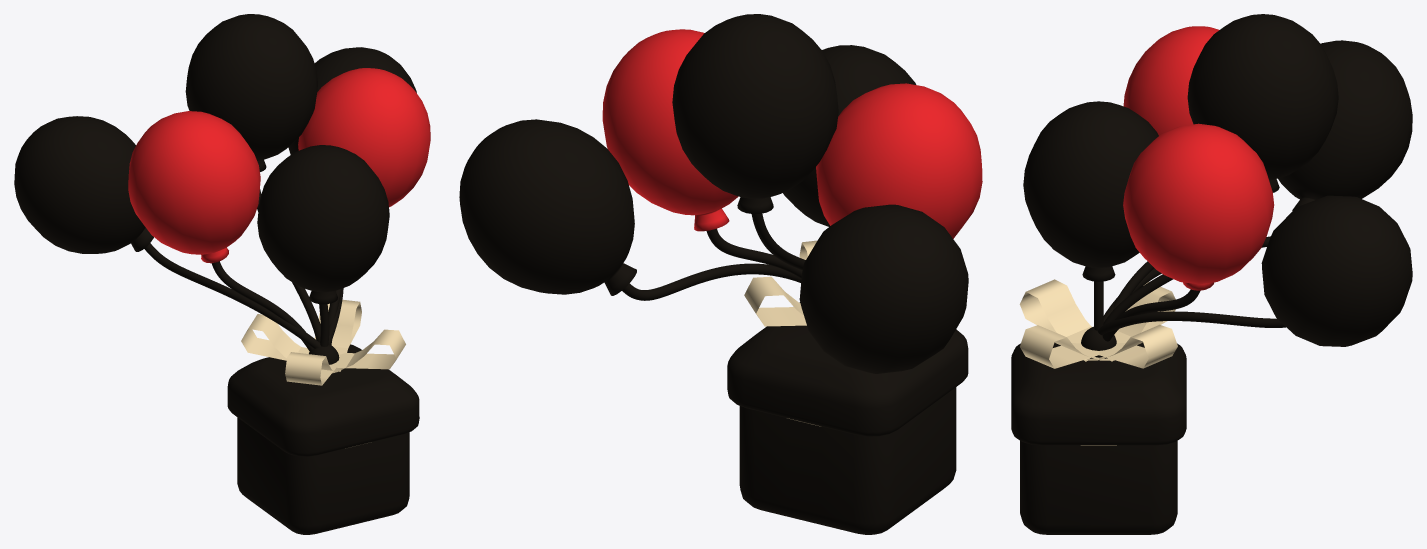
File: BFB.glb
3 views of the same model, side by side, from view 1: azimuth 30°, elevation 25°; view 2: azimuth 150°, elevation 25°; view 3: azimuth 270°, elevation 25° (orthographic). The views are drawn at different scales.
Parts seen in each view (by area): view 1: Sphere, Sphere.001, Sphere.005, Sphere.003, Cube.002, Cube, Sphere.002, Plane.004, Sphere.006, NurbsPath.004, NurbsPath.001, NurbsPath.003; view 2: Sphere.006, Sphere.003, Sphere.005, Cube, Sphere.001, Cube.002, Sphere.002, Sphere, Plane.004, NurbsPath.005, NurbsPath.002, NurbsPath.003; view 3: Sphere.002, Sphere.006, Sphere.003, Sphere, Cube.002, Cube, Sphere.005, Plane.004, Sphere.001, NurbsPath.005, NurbsPath.002, NurbsPath.003 (+3 smaller).
Boxes of the visible parts, x1,y1,x2,y2 form: Sphere: [257, 145, 389, 304]; Sphere.001: [128, 111, 260, 263]; Sphere.005: [14, 116, 153, 253]; Sphere.003: [185, 14, 317, 171]; Cube.002: [227, 344, 419, 456]; Cube: [237, 417, 409, 534]; Sphere.002: [298, 68, 430, 207]; Plane.004: [241, 299, 405, 385]; Sphere.006: [288, 47, 416, 154]; NurbsPath.004: [144, 243, 320, 348]; NurbsPath.001: [211, 261, 313, 351]; NurbsPath.003: [257, 189, 320, 342]; Sphere.006: [459, 119, 636, 295]; Sphere.003: [672, 14, 838, 213]; Sphere.005: [799, 204, 968, 373]; Cube: [739, 387, 956, 534]; Sphere.001: [816, 83, 982, 238]; Cube.002: [727, 302, 968, 436]; Sphere.002: [602, 29, 738, 231]; Sphere: [783, 45, 916, 226]; Plane.004: [744, 240, 817, 326]; NurbsPath.005: [622, 263, 801, 300]; NurbsPath.002: [706, 228, 802, 278]; NurbsPath.003: [751, 213, 805, 270]; Sphere.002: [1123, 123, 1274, 290]; Sphere.006: [1261, 195, 1412, 346]; Sphere.003: [1187, 14, 1338, 192]; Sphere: [1023, 101, 1158, 281]; Cube.002: [1011, 342, 1186, 445]; Cube: [1020, 440, 1177, 534]; Sphere.005: [1278, 40, 1412, 210]; Plane.004: [1019, 279, 1177, 368]; Sphere.001: [1123, 26, 1219, 135]; NurbsPath.005: [1097, 311, 1285, 335]; NurbsPath.002: [1102, 289, 1200, 341]; NurbsPath.003: [1103, 274, 1173, 325].
Bounding box in the file's own units: 3.57 × 3.79 × 2.83.
